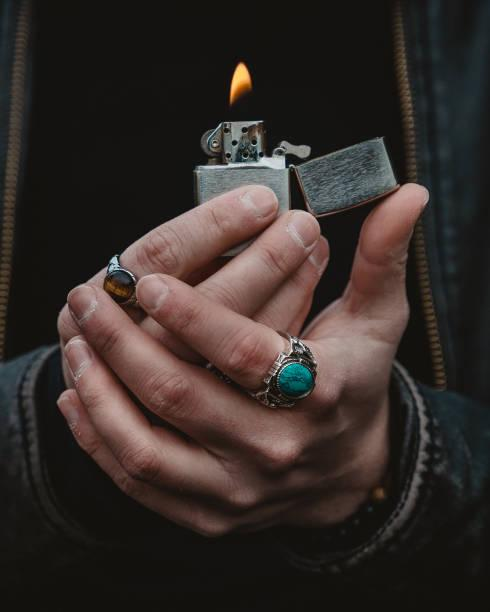Fire: (226, 60, 258, 104)
